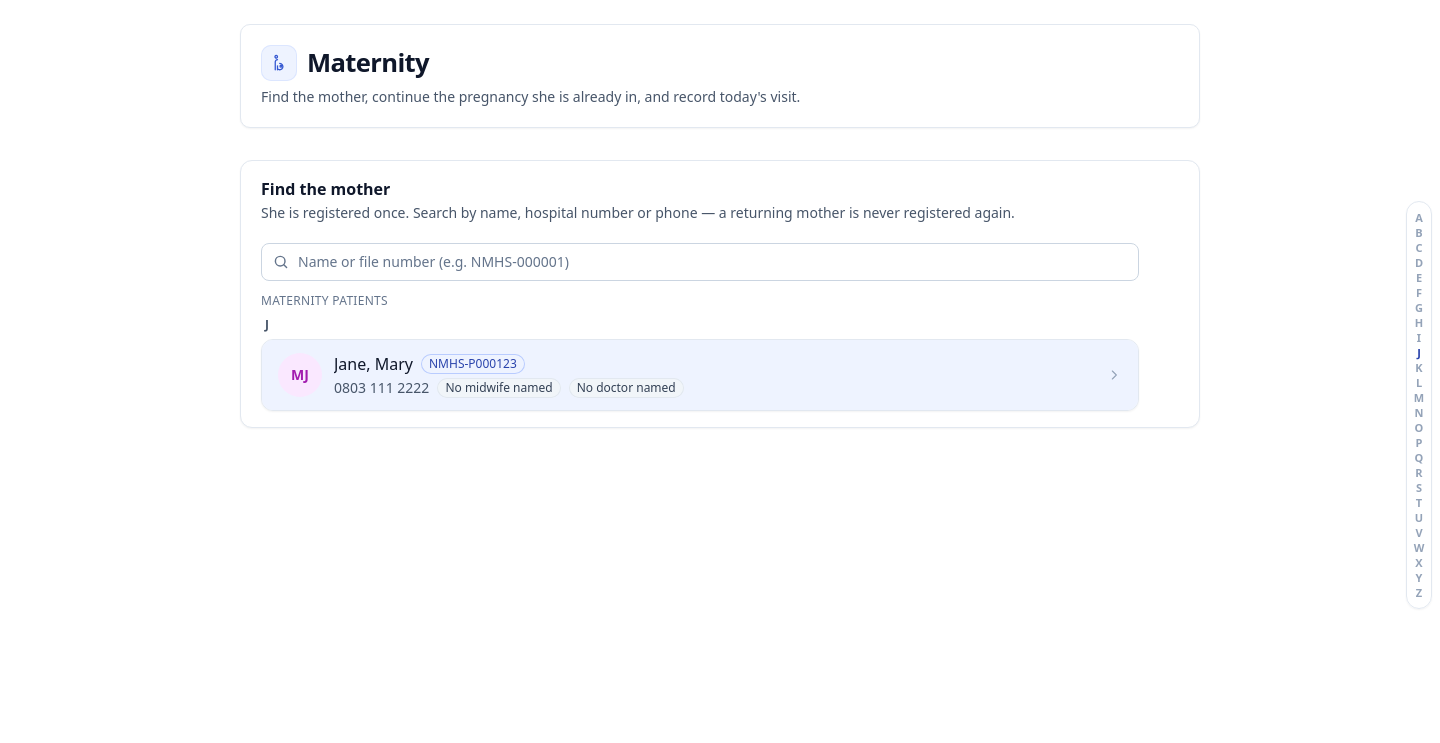
Test case: recording today's visit › surfaces the server's refusal rather than its own guess
Click the dropdown named "Search maternity patients" at (700, 262), box [261, 243, 1139, 281]
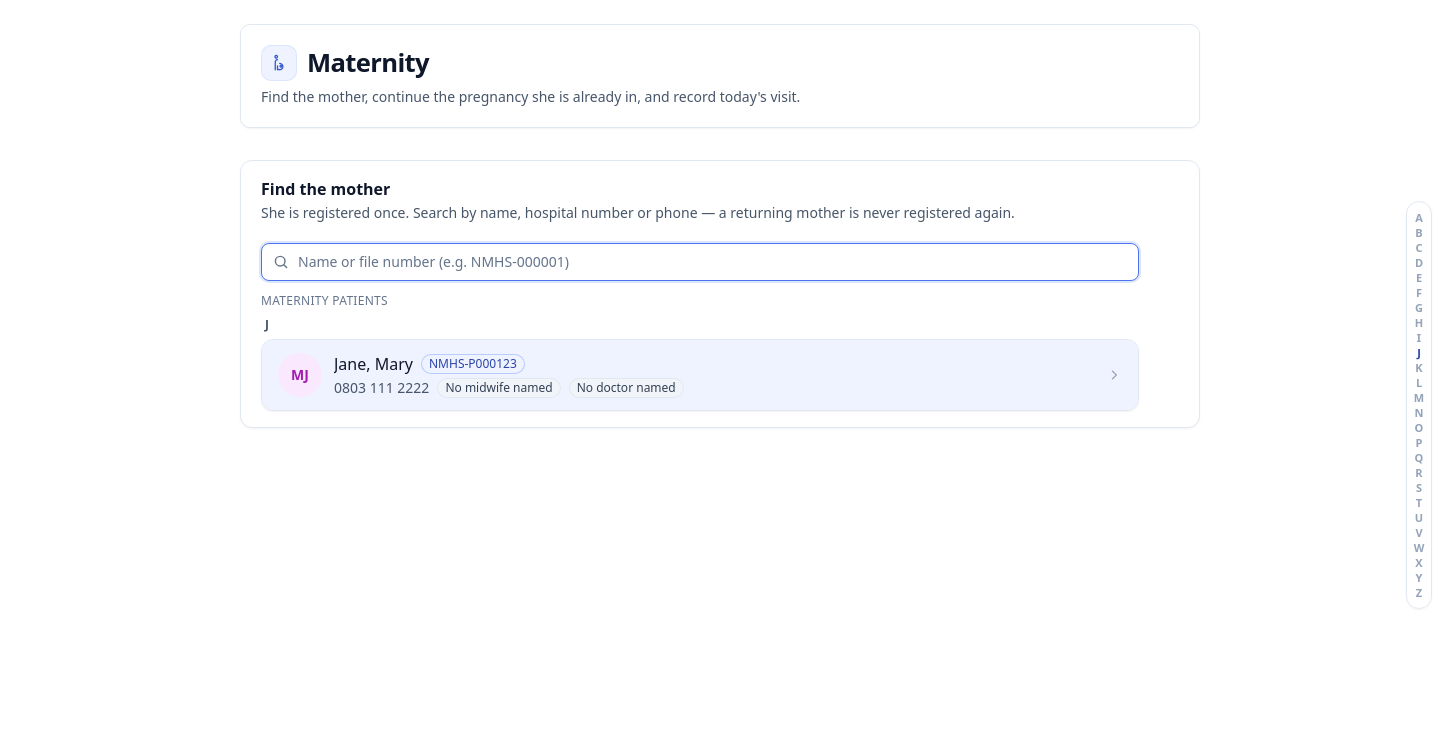
Click the option "Jane, Mary" at (300, 375), box [262, 340, 1138, 410]
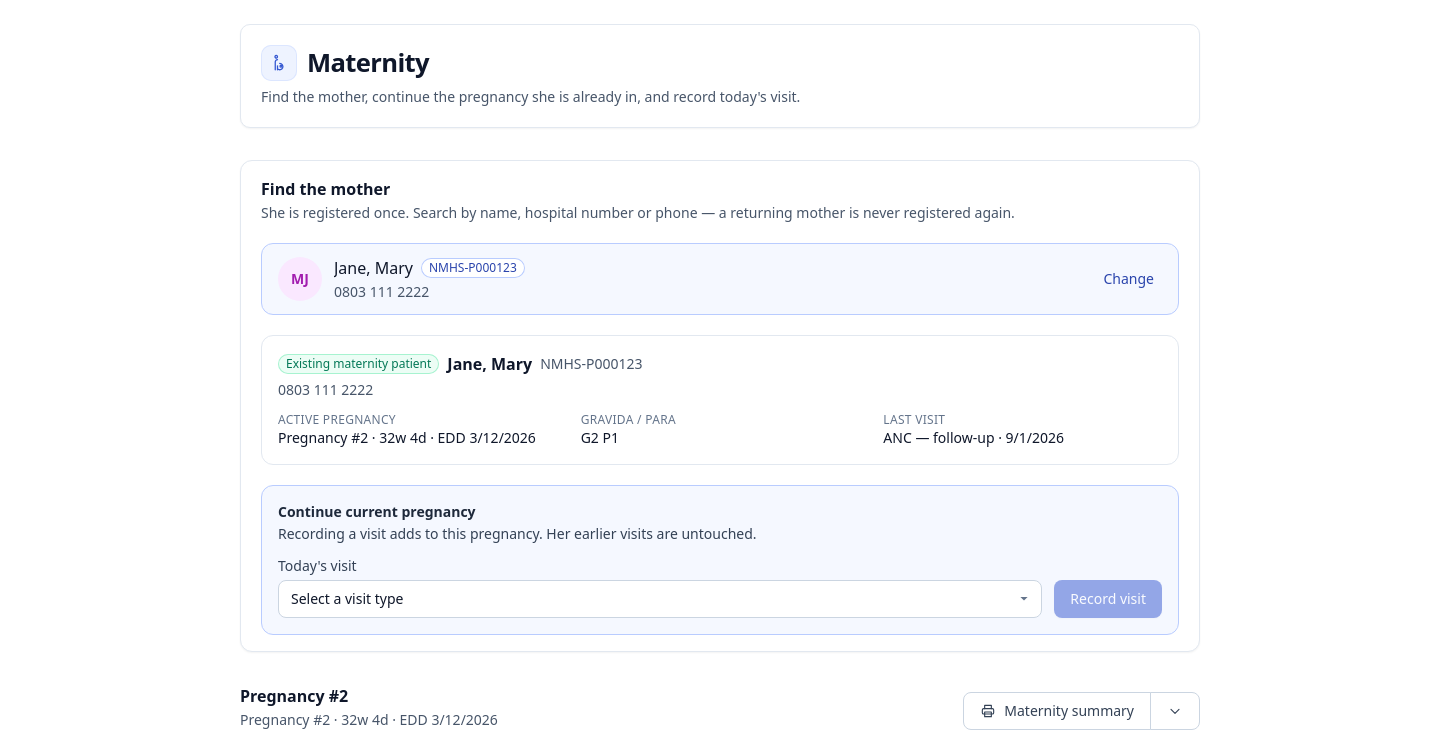
Select "ANC — follow-up" in the dropdown named "Visit type" at (660, 599), box [278, 580, 1042, 618]
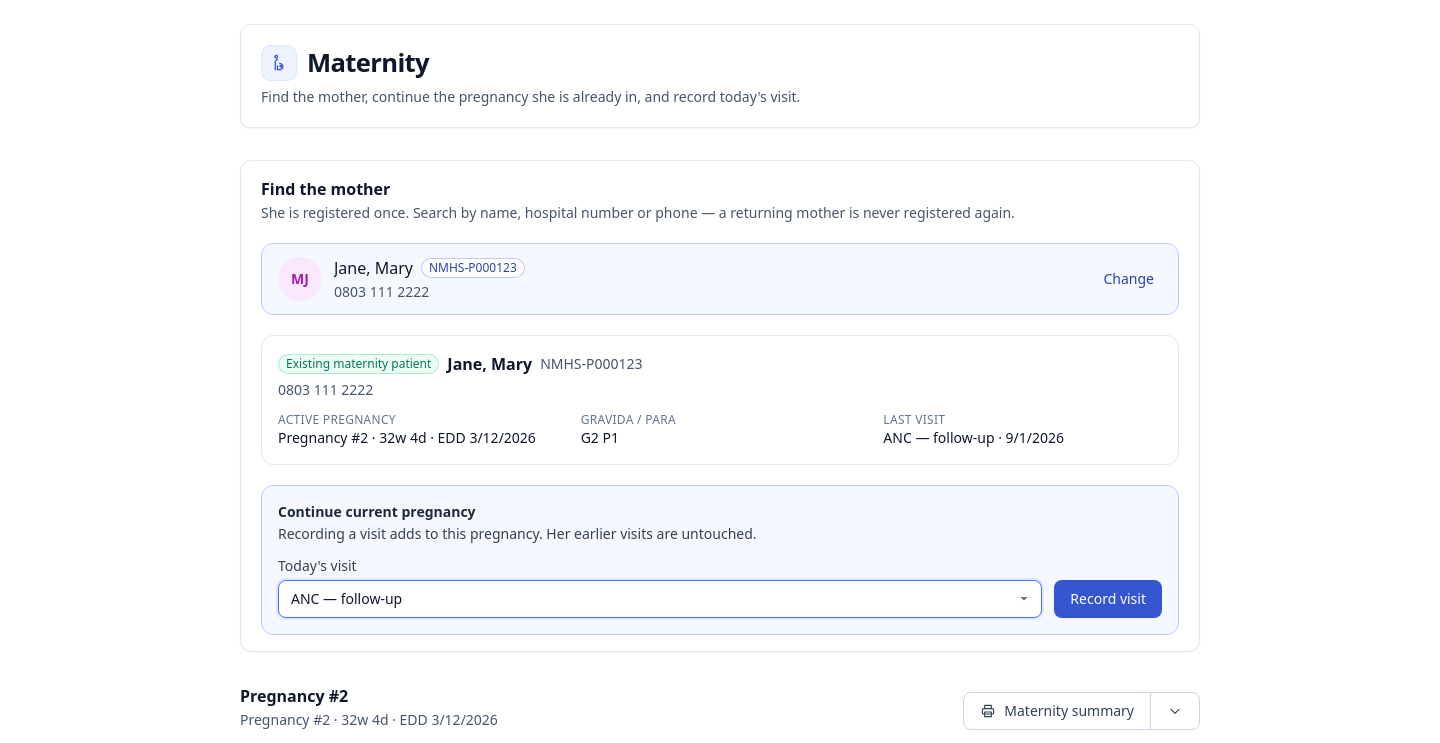
Click the button "Record visit" at (1108, 599), box [1054, 580, 1162, 618]
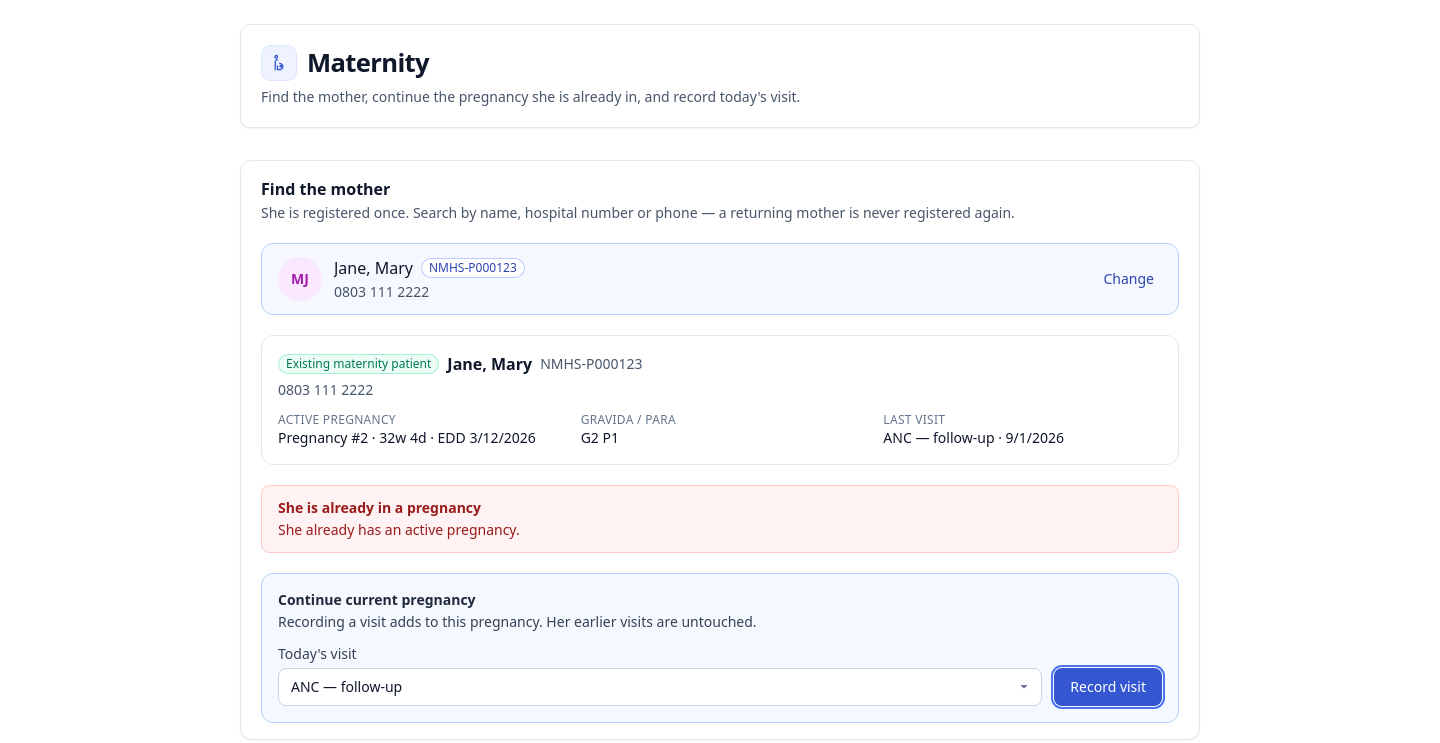
Now the text "She is already in a pregnancy" is shown, box [278, 498, 481, 517]
